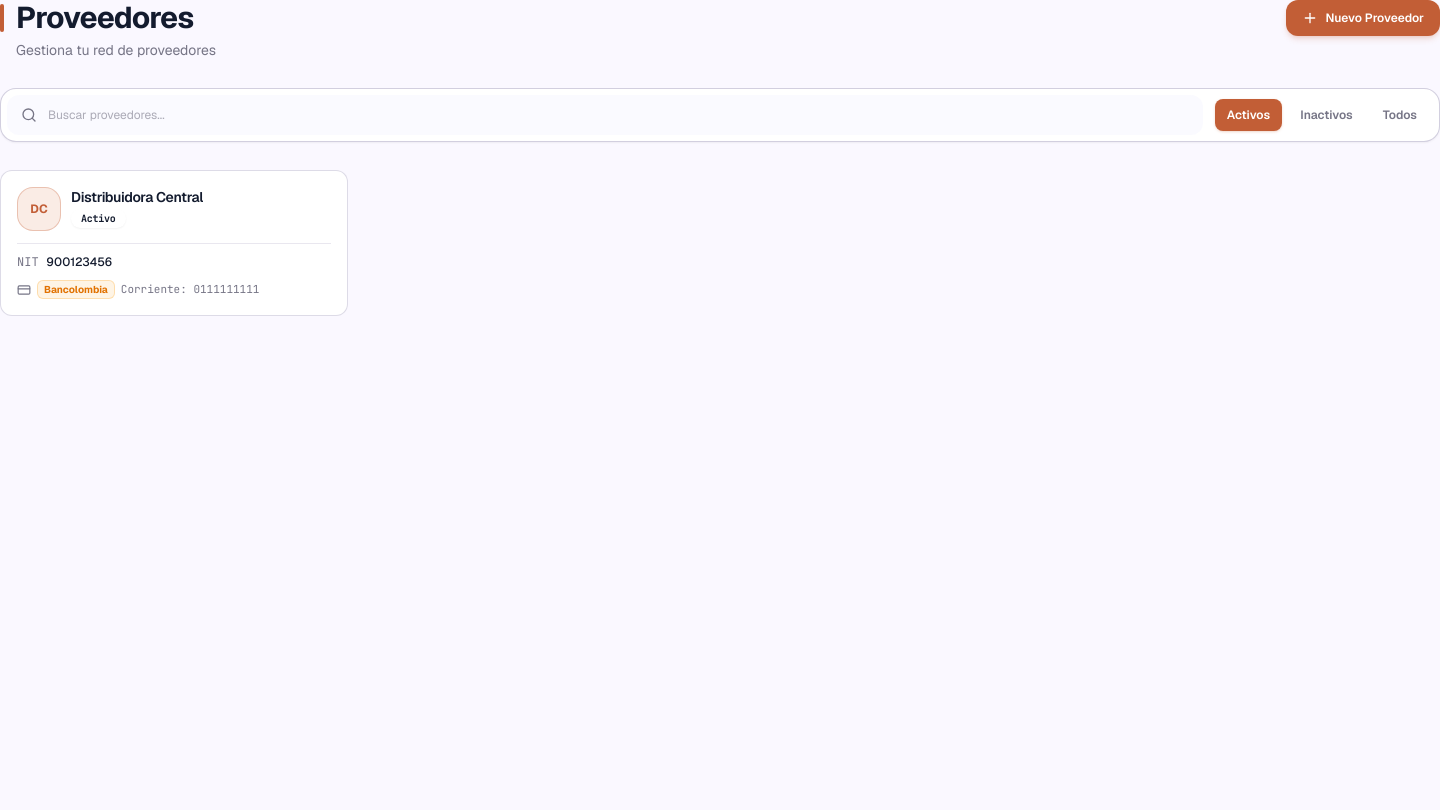
Test: Suppliers page modal — customer-supplier-info-fields (T19) › seeds bank, accountNumber and accountType (Corriente/CHECKING) when editing a supplier
The width and height of the screenshot is (1440, 810).
Note: Clicking the card (an ADMIN can manage) triggers handleEdit.
Click the heading "Distribuidora Central": (137, 197) [71, 189, 203, 205]
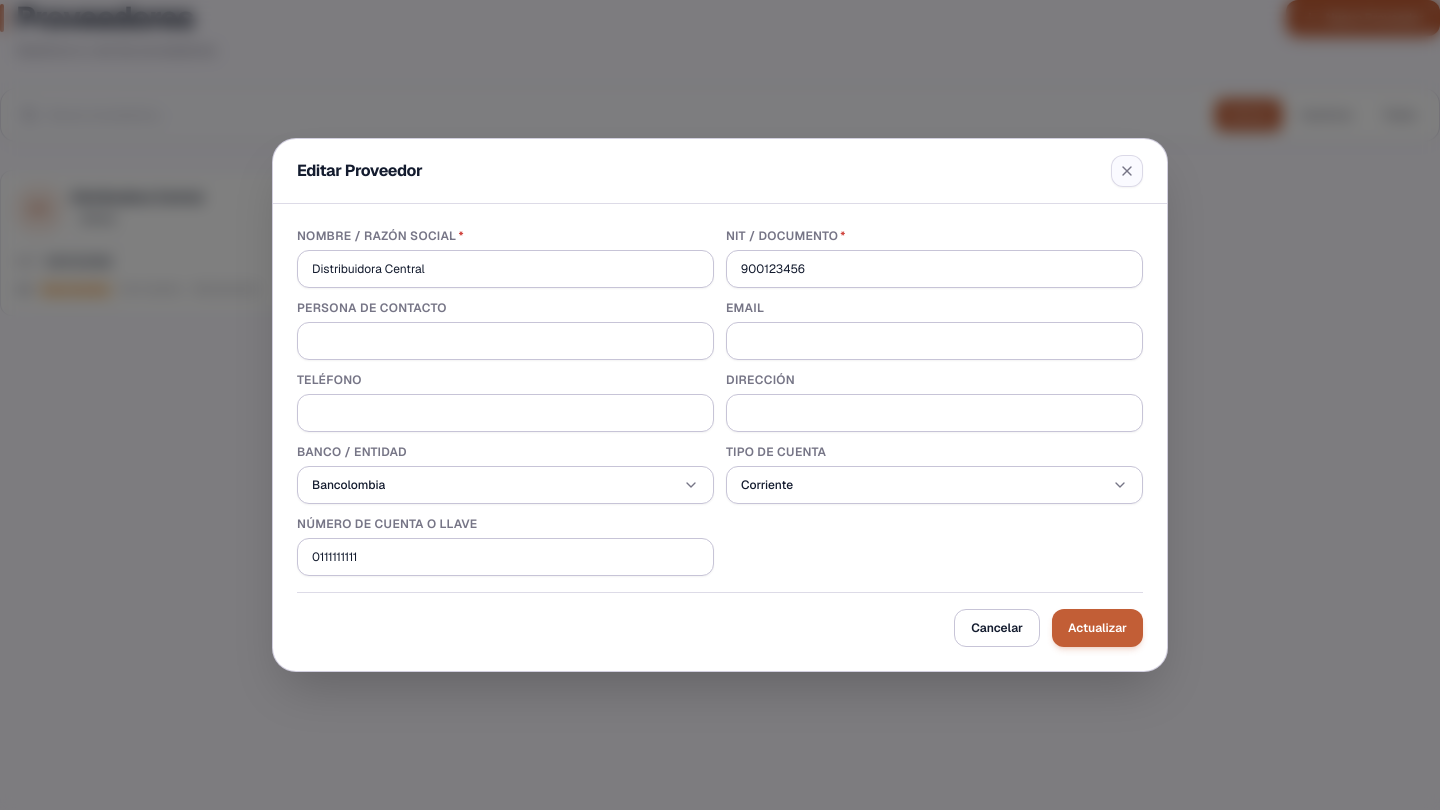
Now the field labelled "Número de cuenta o Llave" holds "0111111111", box [297, 538, 714, 576]
Now the button "Bancolombia" is shown, box [297, 466, 714, 504]
Now the button "Corriente" is shown, box [726, 466, 1143, 504]
